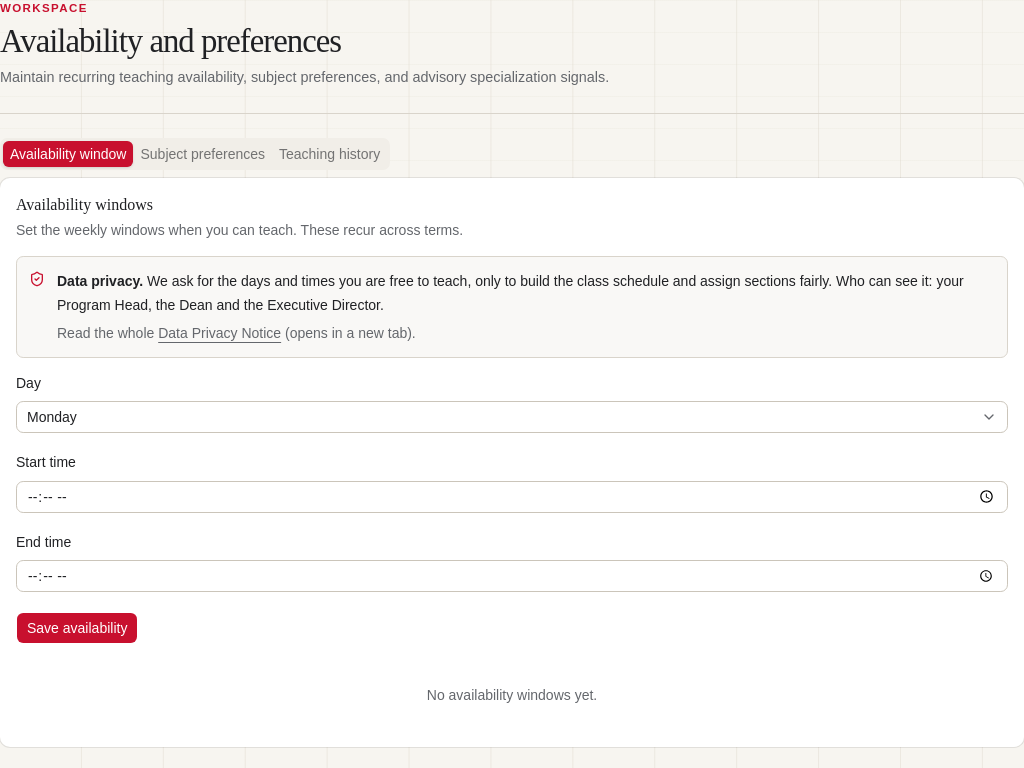
FacultySubjectPreferencePanel › maps a 422 validation error to a FieldError on the form, not a generic banner
Click the tab "Subject preferences". click: click(203, 154)
box: [134,141,272,167]
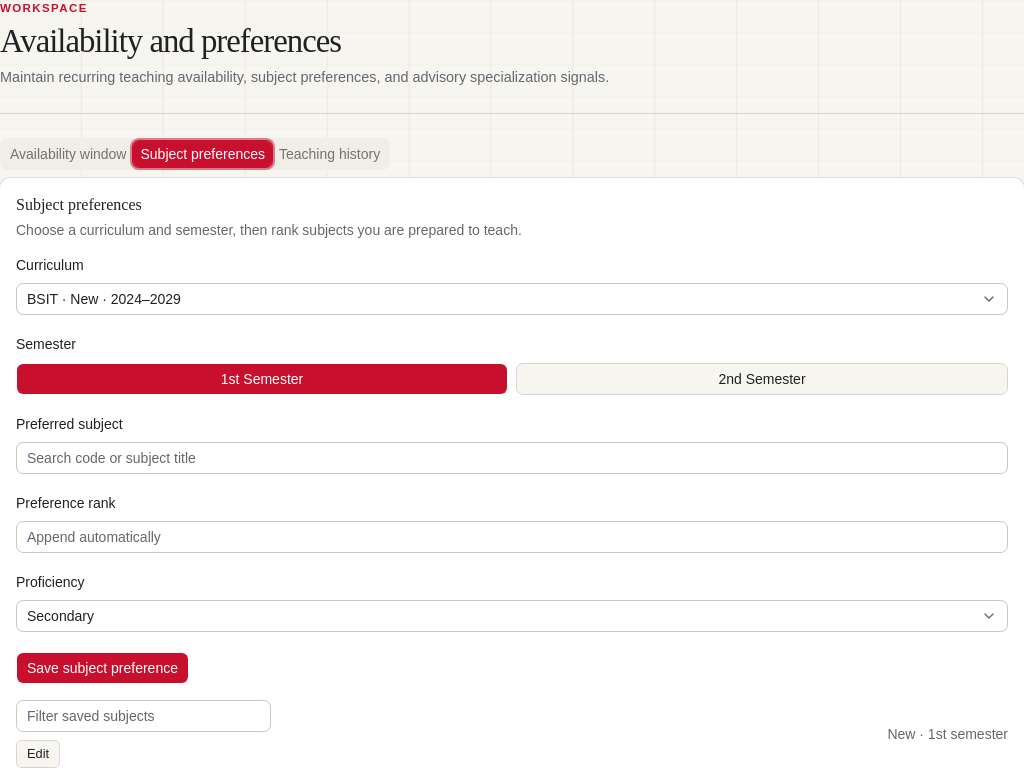
Click the dropdown labelled "Preferred subject". click: click(512, 458)
box: [16,442,1008,474]
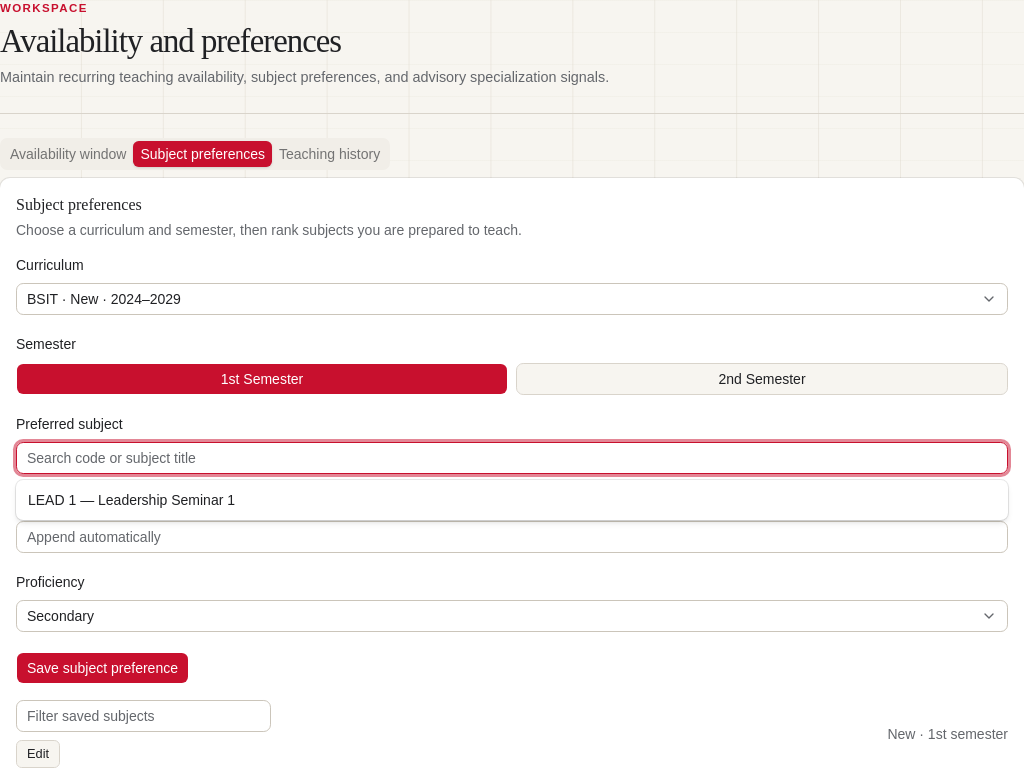
Click the option "LEAD 1 — Leadership Seminar 1". click: click(132, 500)
box: [28,492,235,508]
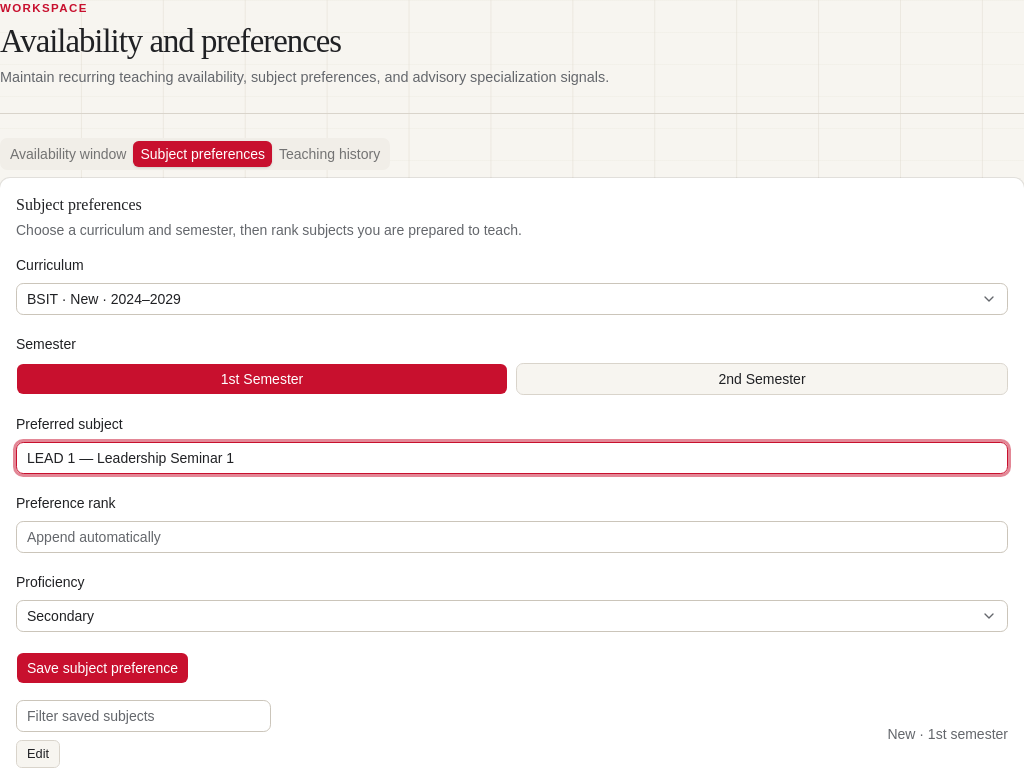
Click the button "Save subject preference". click: click(102, 668)
box: [16,652,189,684]
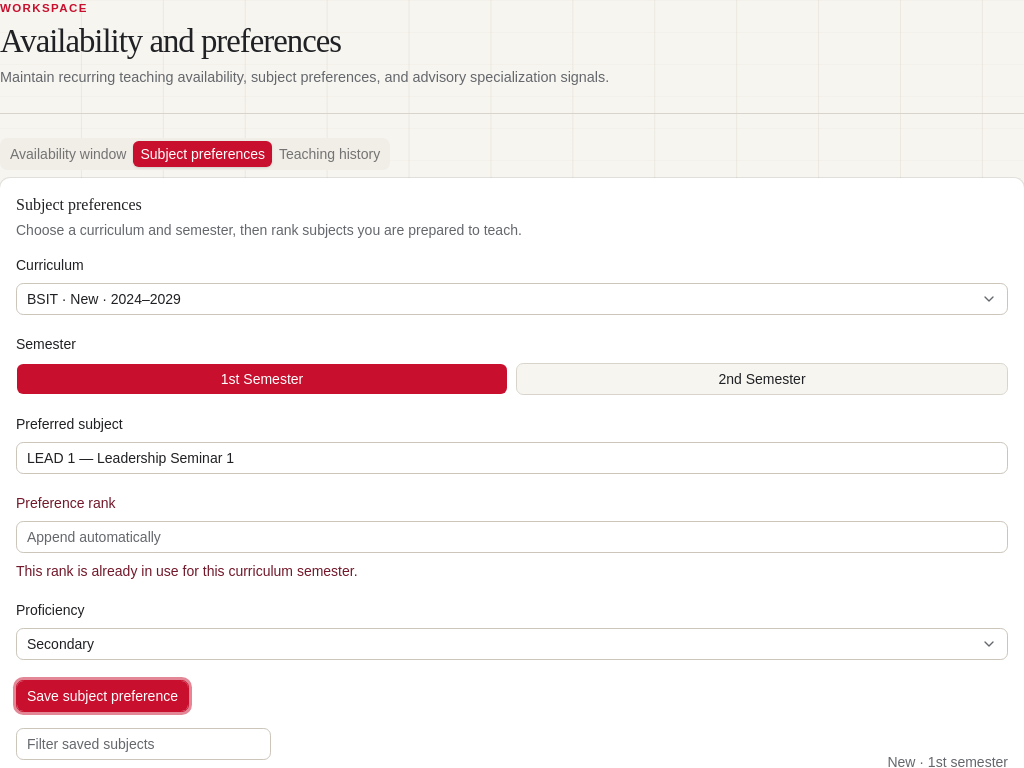
Result: the text "This rank is already in use for this curriculum semester." is shown at [16,563,358,579]
